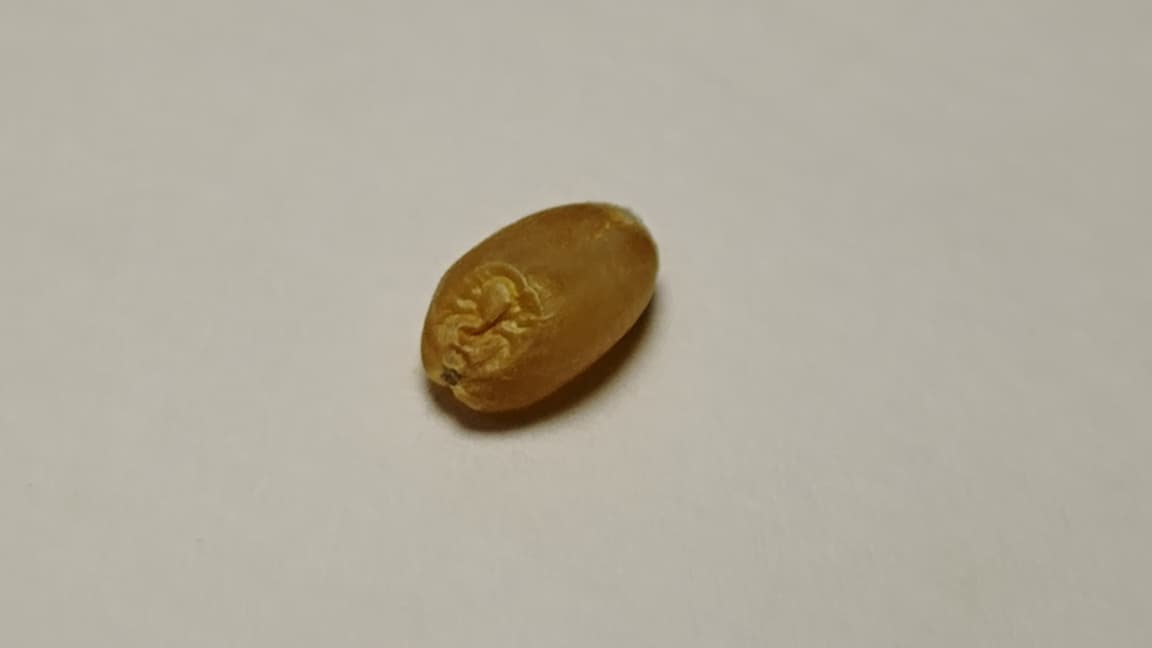healthy: (422, 203, 657, 410)
